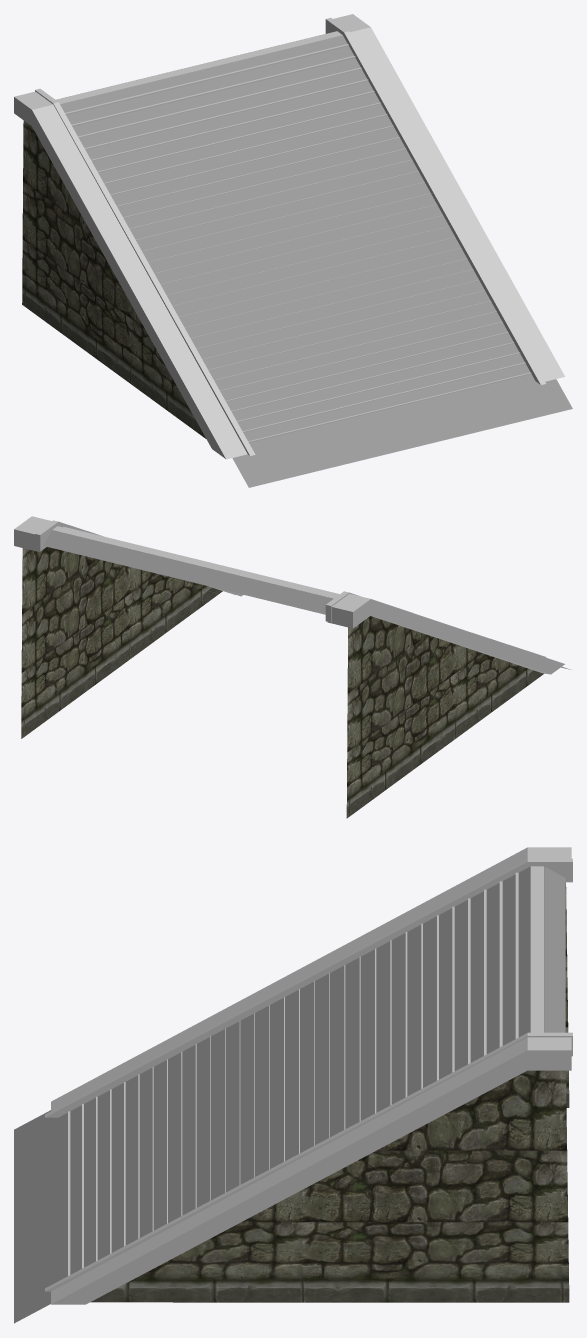
The model's file is JiaYeSi_LouTi_1.FBX.
3 views of the same model, one above another, from view 1: azimuth 30°, elevation 25°; view 2: azimuth 150°, elevation 25°; view 3: azimuth 270°, elevation 25° (orthographic). The views are drawn at different scales.
Visible parts, largest first — view 1: JiaYeSi_LouTi_1_Xzm, JiaYeSi_LouTi_1b, JiaYeSi_LouTi_1a, JiaYeSi_LouTi_1c; view 2: JiaYeSi_LouTi_1c, JiaYeSi_LouTi_1b, JiaYeSi_LouTi_1_Xzm, JiaYeSi_LouTi_1a; view 3: JiaYeSi_LouTi_1_Xzm, JiaYeSi_LouTi_1c, JiaYeSi_LouTi_1b, JiaYeSi_LouTi_1a.
Boxes of the visible parts, x1=… form: JiaYeSi_LouTi_1_Xzm: x1=60, y1=31, x2=572, y2=487; JiaYeSi_LouTi_1b: x1=14, y1=14, x2=564, y2=459; JiaYeSi_LouTi_1a: x1=56, y1=31, x2=531, y2=442; JiaYeSi_LouTi_1c: x1=22, y1=121, x2=205, y2=438; JiaYeSi_LouTi_1c: x1=21, y1=547, x2=543, y2=818; JiaYeSi_LouTi_1b: x1=14, y1=516, x2=564, y2=674; JiaYeSi_LouTi_1_Xzm: x1=43, y1=530, x2=570, y2=669; JiaYeSi_LouTi_1a: x1=52, y1=526, x2=339, y2=598; JiaYeSi_LouTi_1_Xzm: x1=14, y1=866, x2=565, y2=1323; JiaYeSi_LouTi_1c: x1=90, y1=882, x2=569, y2=1302; JiaYeSi_LouTi_1b: x1=45, y1=847, x2=572, y2=1304; JiaYeSi_LouTi_1a: x1=68, y1=866, x2=543, y2=1275.
Bounding box in the file's own units: 1601 × 1028 × 1865.
